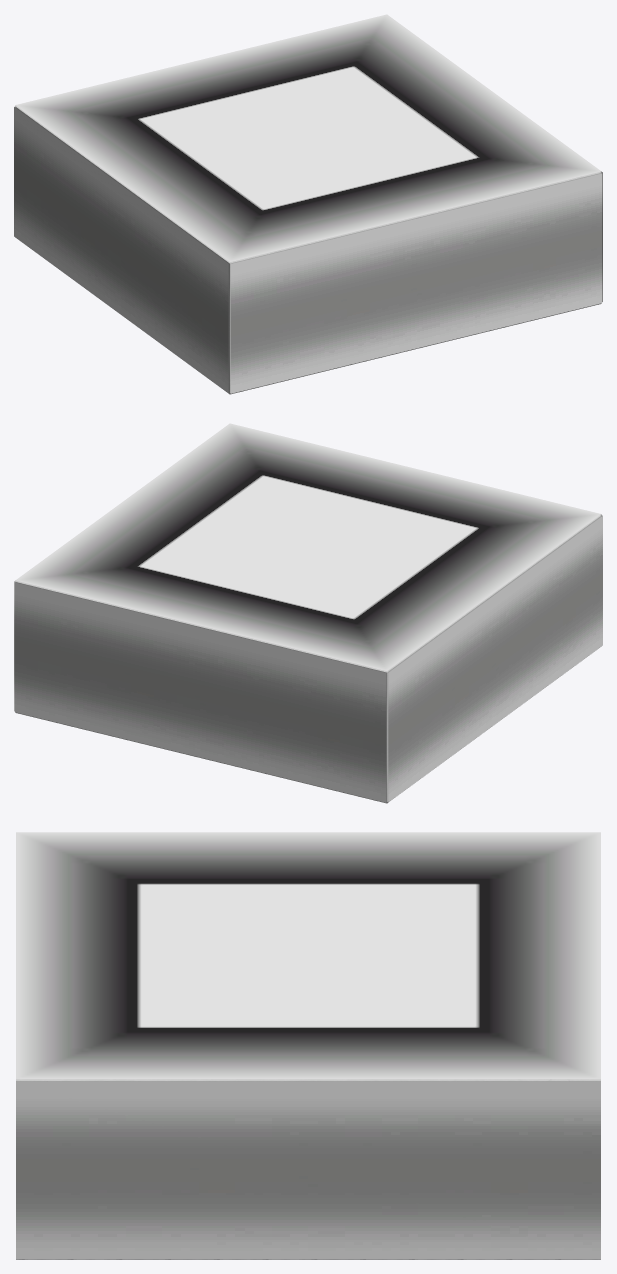
The model's file is hologram.obj.
The picture shows the model from 3 angles, top to bottom: view 1: azimuth 30°, elevation 25°; view 2: azimuth 150°, elevation 25°; view 3: azimuth 270°, elevation 25°; orthographic projection. The views are drawn at different scales.
Visible parts, largest first — view 1: Hologram3, Hologram5, Hologram4, Hologram1; view 2: Hologram3, Hologram7, Hologram4, Hologram1; view 3: Hologram3, Hologram6, Hologram1, Hologram2.
Boxes of the visible parts, x1=… form: Hologram3: x1=15, y1=14, x2=601, y2=261; Hologram5: x1=230, y1=173, x2=602, y2=393; Hologram4: x1=14, y1=107, x2=228, y2=393; Hologram1: x1=15, y1=106, x2=601, y2=392; Hologram3: x1=15, y1=423, x2=601, y2=670; Hologram7: x1=14, y1=582, x2=386, y2=802; Hologram4: x1=388, y1=516, x2=602, y2=802; Hologram1: x1=15, y1=515, x2=601, y2=801; Hologram3: x1=16, y1=832, x2=600, y2=1079; Hologram6: x1=16, y1=1082, x2=600, y2=1258; Hologram1: x1=16, y1=1079, x2=600, y2=1081; Hologram2: x1=16, y1=1259, x2=600, y2=1259.
Size of the model in its own units: 6.04 by 2.04 by 6.04.
4 materials, 4 textured.
